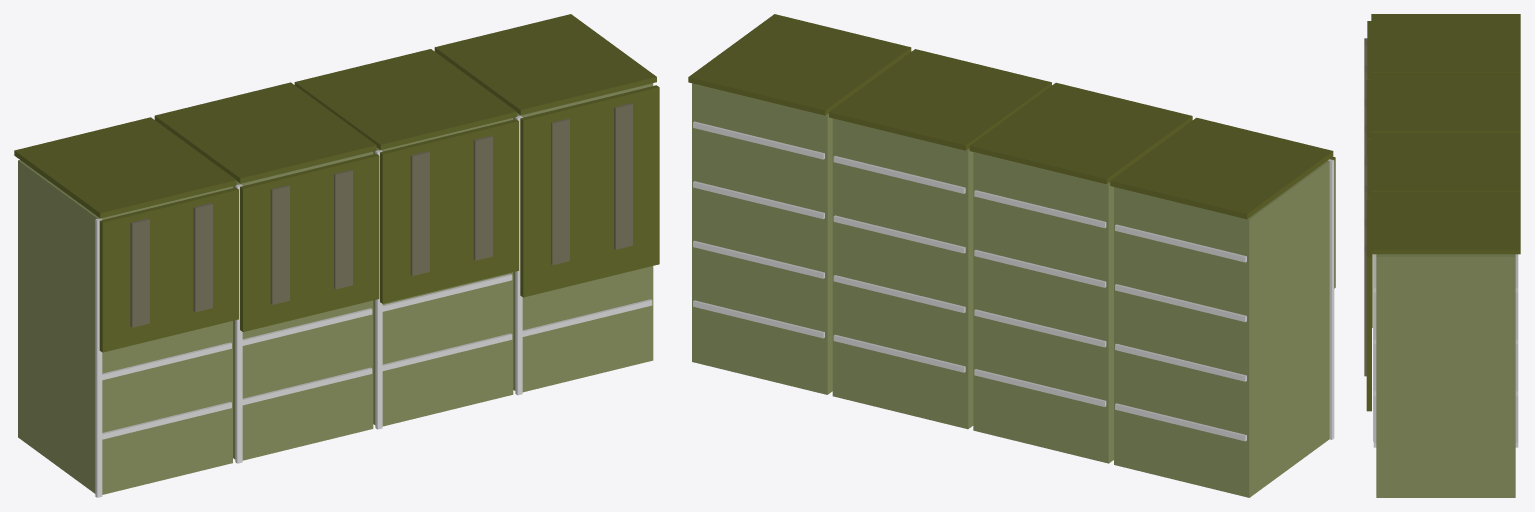
File: SM_HescoCorto4_v4_Red_e0_Sano_LOD0.fbx
3 renders of one model, left to right at view 1: azimuth 30°, elevation 25°; view 2: azimuth 150°, elevation 25°; view 3: azimuth 270°, elevation 25°, orthographic. The views are drawn at different scales.
Visible parts, largest first — view 1: SM_hesco_piezas_v116_LOD0; view 2: SM_hesco_piezas_v116_LOD0; view 3: SM_hesco_piezas_v116_LOD0.
Part boxes in pixels (x1,y1,x2,y2): SM_hesco_piezas_v116_LOD0: (14, 14, 659, 497); SM_hesco_piezas_v116_LOD0: (688, 14, 1335, 497); SM_hesco_piezas_v116_LOD0: (1364, 14, 1520, 497).
Bounding box in the file's own units: 4.43 × 2.16 × 1.23.
